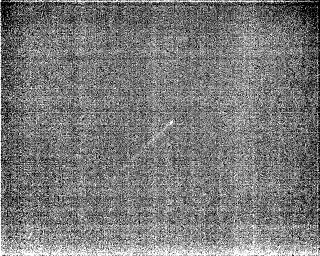AIRPLANE: (125, 121, 175, 161)
